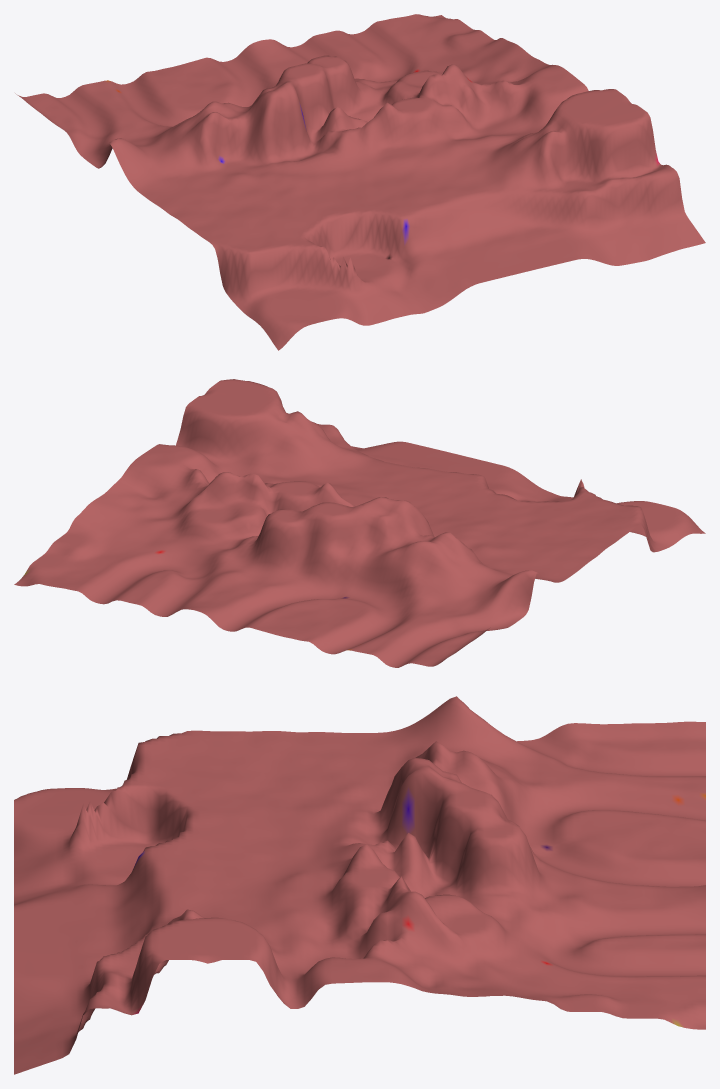
The model's file is terreno_no.glb.
The picture shows the model from 3 angles, top to bottom: view 1: azimuth 30°, elevation 25°; view 2: azimuth 150°, elevation 25°; view 3: azimuth 270°, elevation 25°; orthographic projection. The views are drawn at different scales.
Parts seen in each view (by area): view 1: terreno_no; view 2: terreno_no; view 3: terreno_no.
Boxes of the visible parts, x1,y1,x2,y2 form: terreno_no: (15,14,705,350); terreno_no: (14,379,705,667); terreno_no: (14,696,705,1074).
Size of the model in its own units: 228 by 56.65 by 245.
